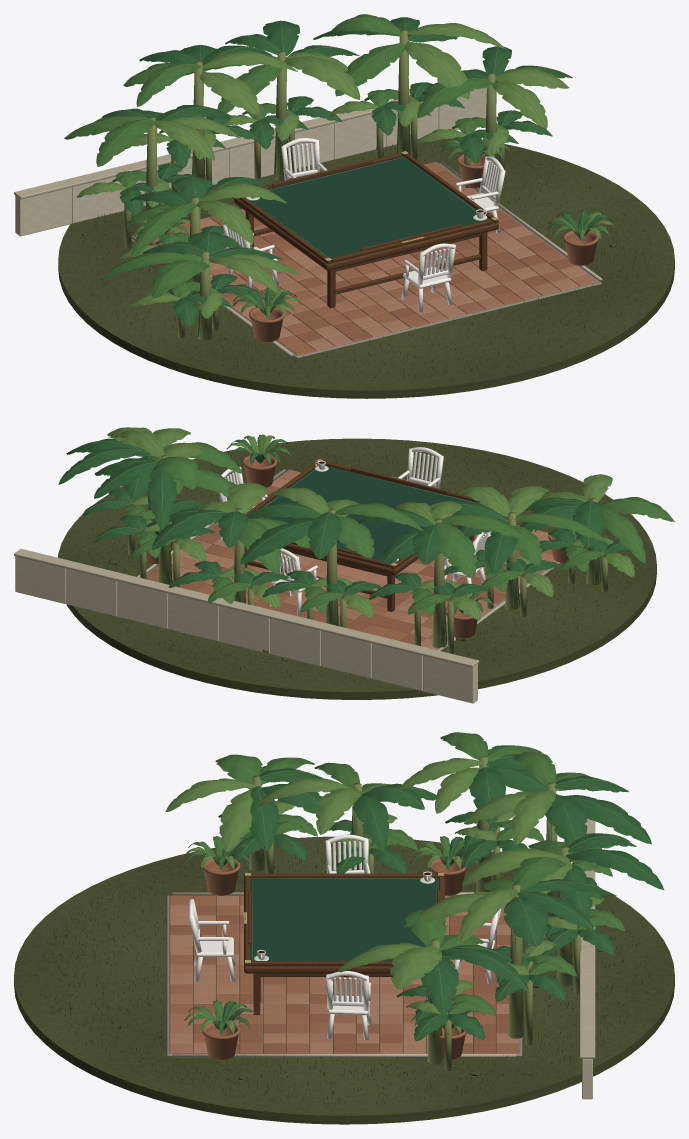
File: patio.glb
The picture shows the model from 3 angles, top to bottom: view 1: azimuth 30°, elevation 25°; view 2: azimuth 150°, elevation 25°; view 3: azimuth 270°, elevation 25°; orthographic projection. The views are drawn at different scales.
Parts seen in each view (by area): view 1: Earthen yard, Green playing surface, Garden wall, Table timber frame, Garden wall.006, Banana leaf.047, Courtyard foundation, Garden wall.001, Grass patch 2, Banana leaf.032, Grass patch 0, Grass patch 1 (+47 smaller); view 2: Earthen yard, Green playing surface, Garden wall, Garden wall.008, Garden wall.007, Garden wall.005, Garden wall.002, Garden wall.003, Garden wall.001, Garden wall.006, Garden wall.004, Banana leaf.001 (+63 smaller); view 3: Earthen yard, Green playing surface, Courtyard foundation, Grass patch 2, Grass patch 0, Grass patch 1, Banana leaf.018, Banana leaf.045, Banana leaf.033, Banana leaf.065, Banana leaf.015, Garden edging.001 (+40 smaller).
Boxes of the visible parts, box(x1,y1,x2,y2) form: Earthen yard: box(58, 138, 674, 398); Green playing surface: box(245, 156, 489, 258); Garden wall: box(15, 187, 71, 236); Table timber frame: box(234, 156, 498, 270); Garden wall.006: box(334, 113, 386, 159); Banana leaf.047: box(404, 41, 469, 98); Courtyard foundation: box(132, 162, 601, 357); Garden wall.001: box(72, 176, 124, 223); Grass patch 2: box(82, 145, 652, 379); Banana leaf.032: box(283, 56, 360, 99); Grass patch 0: box(80, 141, 652, 381); Grass patch 1: box(81, 143, 650, 379); Earthen yard: box(58, 438, 656, 699); Green playing surface: box(261, 465, 476, 563); Garden wall: box(423, 655, 477, 703); Garden wall.008: box(15, 556, 66, 603); Garden wall.007: box(66, 568, 117, 616); Garden wall.005: box(168, 593, 218, 641); Garden wall.002: box(321, 631, 371, 678); Garden wall.003: box(270, 618, 320, 666); Garden wall.001: box(372, 643, 422, 690); Garden wall.006: box(117, 581, 167, 628); Garden wall.004: box(219, 606, 269, 653); Banana leaf.001: box(433, 522, 476, 577); Earthen yard: box(14, 836, 674, 1124); Green playing surface: box(250, 878, 438, 960); Courtyard foundation: box(166, 895, 522, 1055); Grass patch 2: box(40, 847, 651, 1104); Grass patch 0: box(38, 845, 648, 1104); Grass patch 1: box(41, 847, 651, 1105); Banana leaf.018: box(566, 795, 651, 844); Banana leaf.045: box(503, 897, 548, 946); Banana leaf.033: box(565, 849, 663, 889); Banana leaf.065: box(390, 946, 441, 988); Banana leaf.015: box(545, 794, 587, 852); Garden edging.001: box(172, 1053, 516, 1057).
Size of the model in its own units: 20.98 by 5.87 by 20.4.
Materials: 25 (8 with a texture image).
